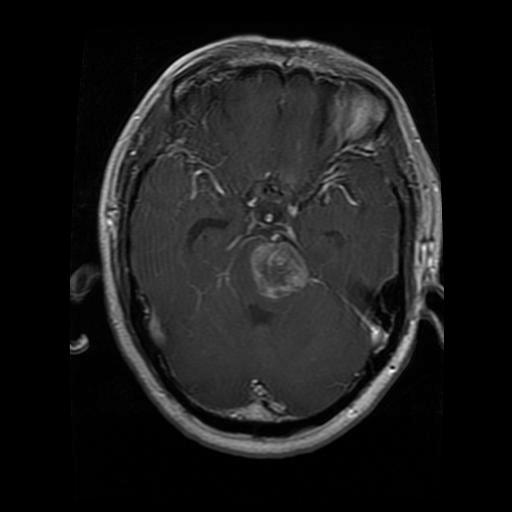Tumour-Glioma: (245, 237, 312, 307)
